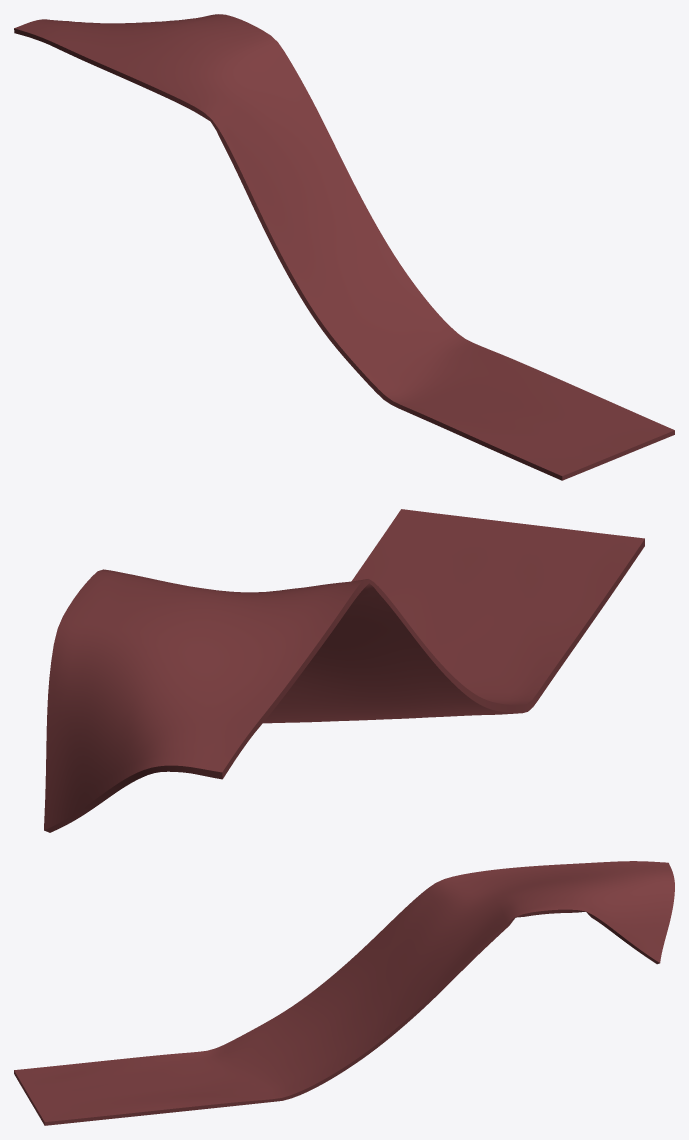
Rendered from cloth_chairv3.fbx.
3 views of the same model, one above another, from view 1: azimuth 30°, elevation 25°; view 2: azimuth 150°, elevation 25°; view 3: azimuth 270°, elevation 25° (orthographic). The views are drawn at different scales.
Visible parts, largest first — view 1: clothv3; view 2: clothv3; view 3: clothv3.
Boxes of the visible parts, left/top/right/bottom form: clothv3: left=14, top=14, right=674, bottom=480; clothv3: left=44, top=509, right=644, bottom=832; clothv3: left=14, top=861, right=674, bottom=1125.
Bounding box in the file's own units: 15.16 × 11.16 × 39.01.
